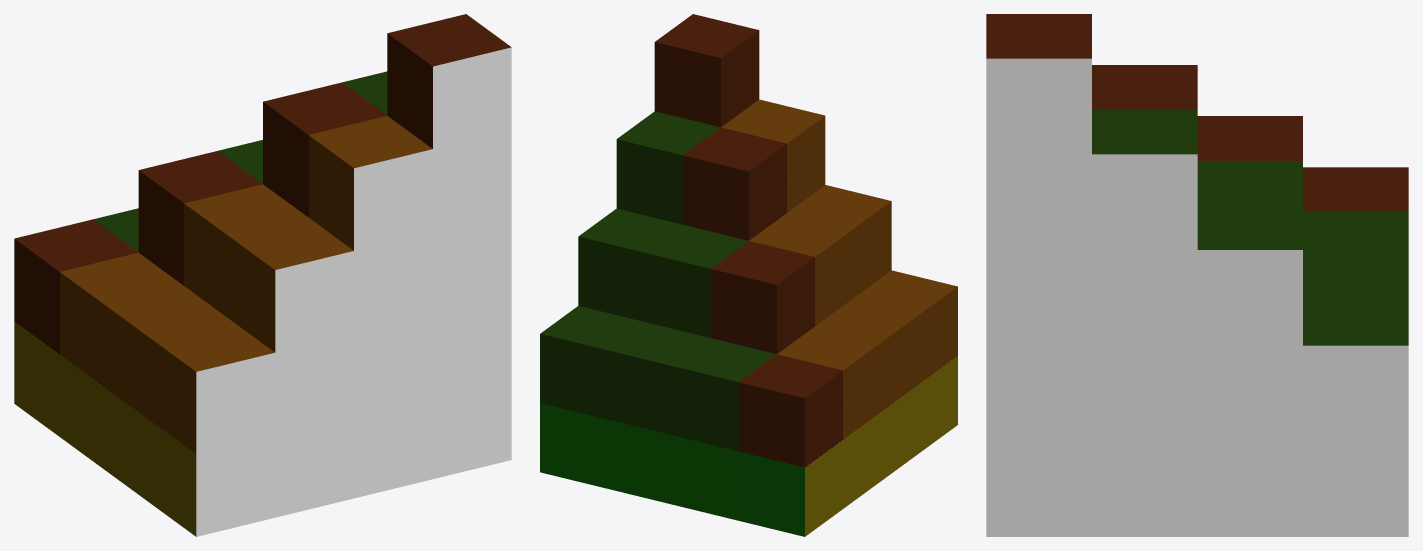
File: block_5.fbx
The picture shows the model from 3 angles, left to right: view 1: azimuth 30°, elevation 25°; view 2: azimuth 150°, elevation 25°; view 3: azimuth 270°, elevation 25°; orthographic projection. The views are drawn at different scales.
Visible parts, largest first — view 1: Box; view 2: Box; view 3: Box.
Boxes of the visible parts, bbox=[...] form: Box: bbox=[14, 14, 511, 536]; Box: bbox=[540, 14, 957, 536]; Box: bbox=[986, 14, 1408, 536].
Size of the model in its own units: 4 by 4 by 5.
1 material, 1 textured.
